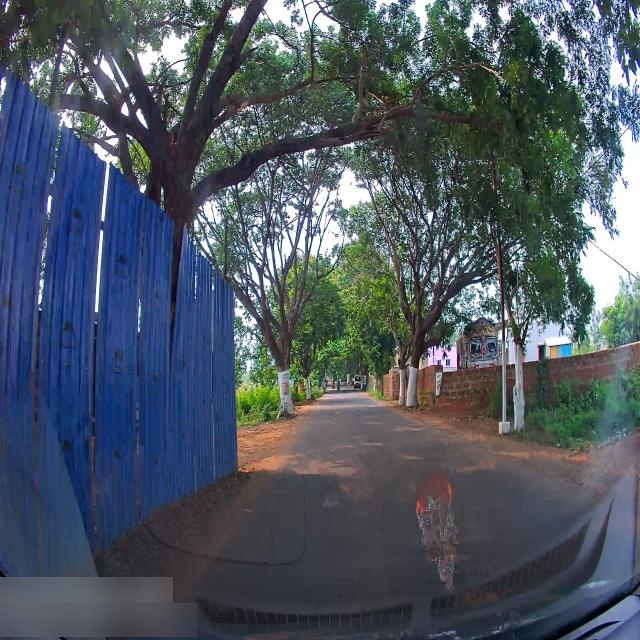pothole: (328, 453, 358, 477), (390, 423, 435, 437), (327, 403, 348, 423), (362, 440, 383, 450)
